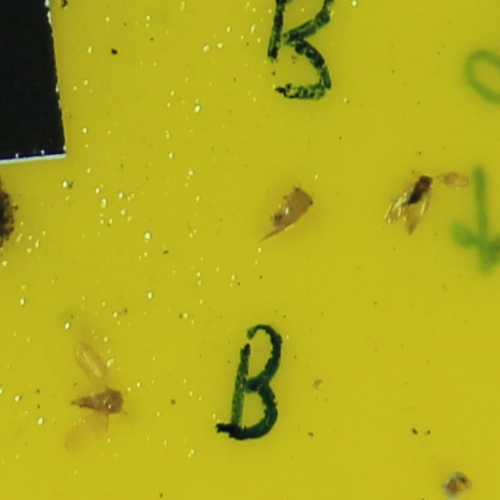Platyobria: (269, 186, 318, 231), (71, 389, 125, 417)
psylla: (403, 174, 432, 207)
